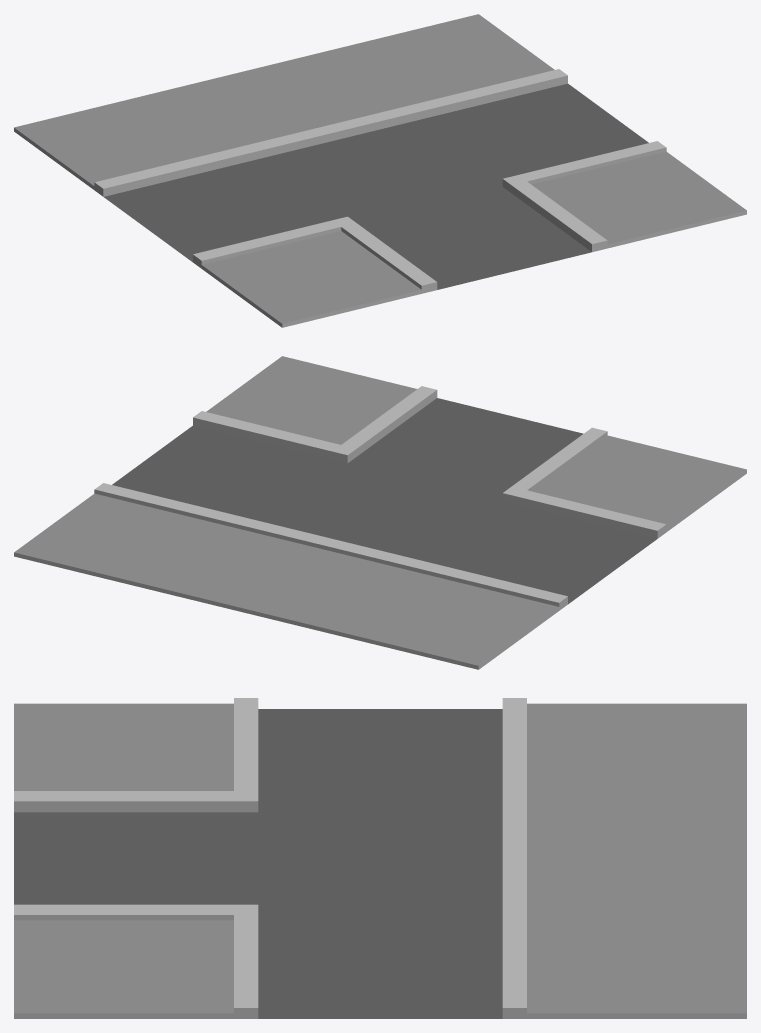
Rendered from street_1cross3.fbx.
3 renders of one model, top to bottom at view 1: azimuth 30°, elevation 25°; view 2: azimuth 150°, elevation 25°; view 3: azimuth 270°, elevation 25°, orthographic. The views are drawn at different scales.
Visible parts, largest first — view 1: street_1cross3; view 2: street_1cross3; view 3: street_1cross3.
Boxes of the visible parts, x1,y1,x2,y2 form: street_1cross3: [14, 14, 746, 327]; street_1cross3: [14, 356, 746, 669]; street_1cross3: [14, 698, 746, 1018].
Size of the model in its own units: 12 by 0.2 by 12.
